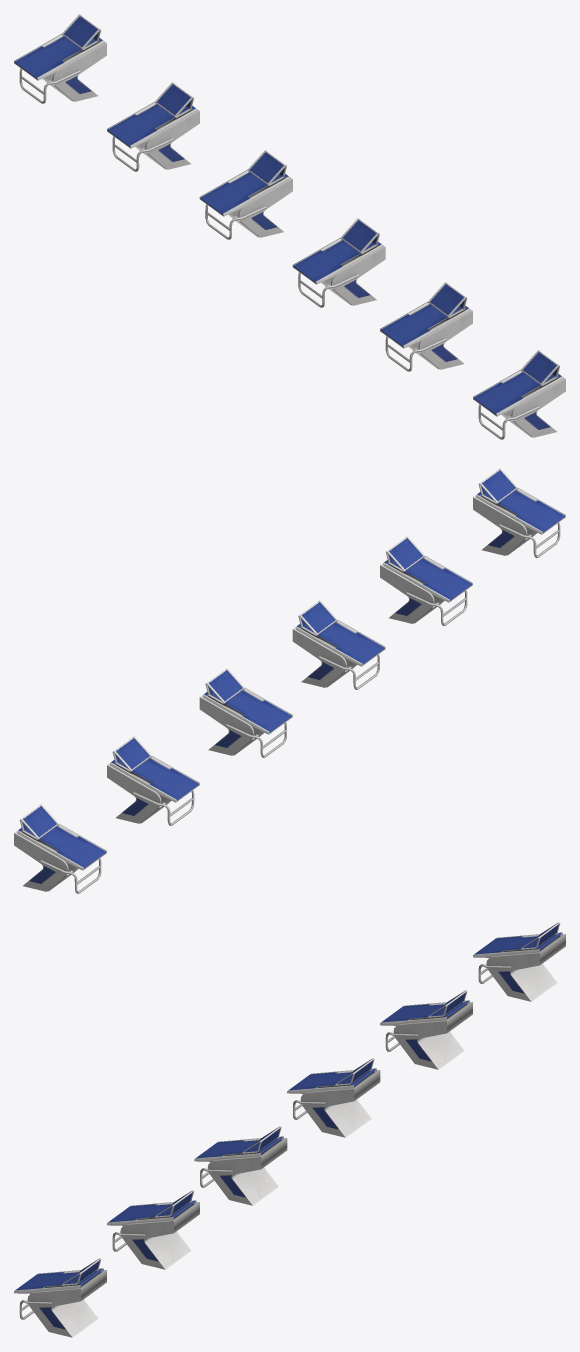
Rendered from JumpStand.fbx.
The picture shows the model from 3 angles, top to bottom: view 1: azimuth 30°, elevation 25°; view 2: azimuth 150°, elevation 25°; view 3: azimuth 330°, elevation 25°; orthographic projection.
Visible parts, largest first — view 1: JumpStand; view 2: JumpStand; view 3: JumpStand.
Part boxes in pixels (x1,y1,x2,y2): JumpStand: (14, 14, 565, 439); JumpStand: (14, 468, 565, 893); JumpStand: (14, 922, 565, 1337).
Bounding box in the file's own units: 72.01 × 64.31 × 893.
